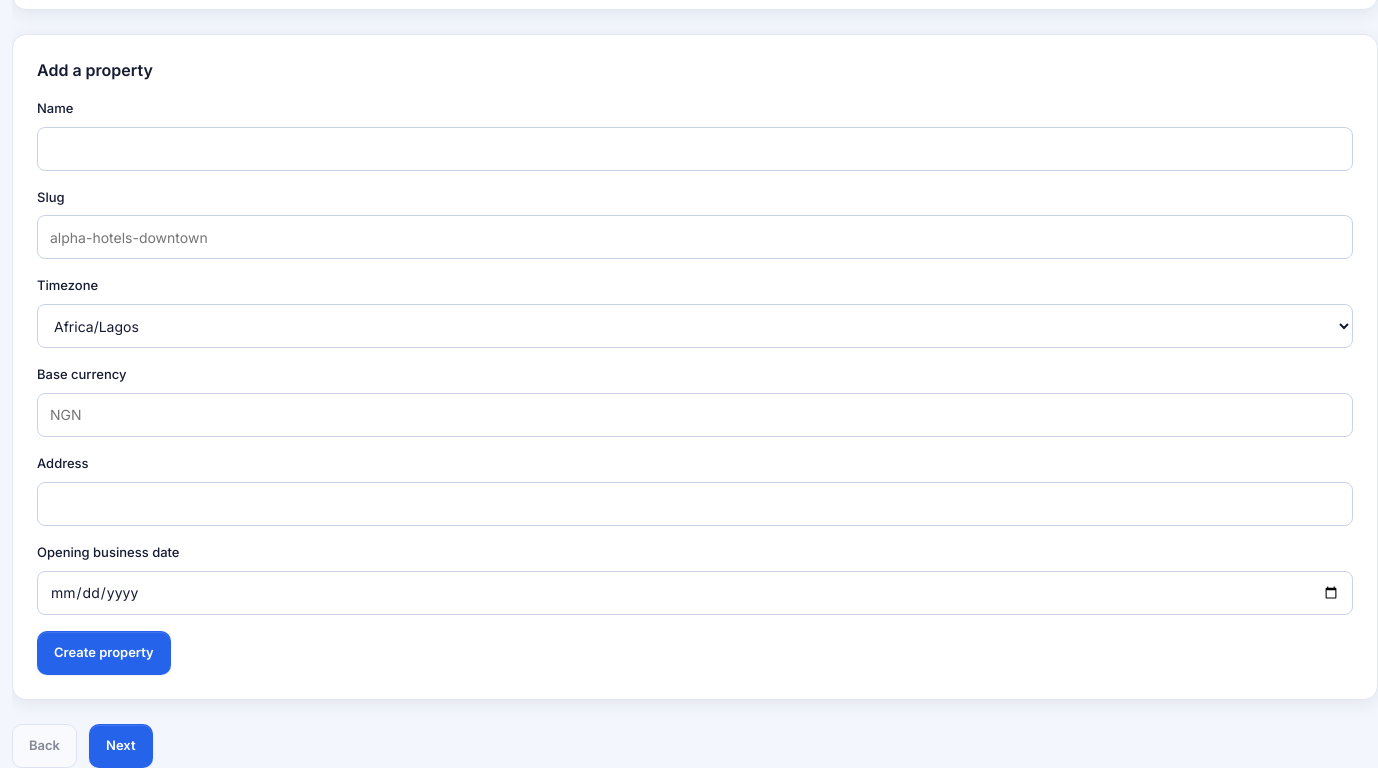
Scenario: <SetupWizard> › disables Back on the first step and moves forward on Next
(page scrolled)
Expected: the button "Back" is disabled, left=12, top=724, right=77, bottom=767
Click the button "Next".
click(121, 746)  # box left=89, top=724, right=152, bottom=767
(page scrolled)
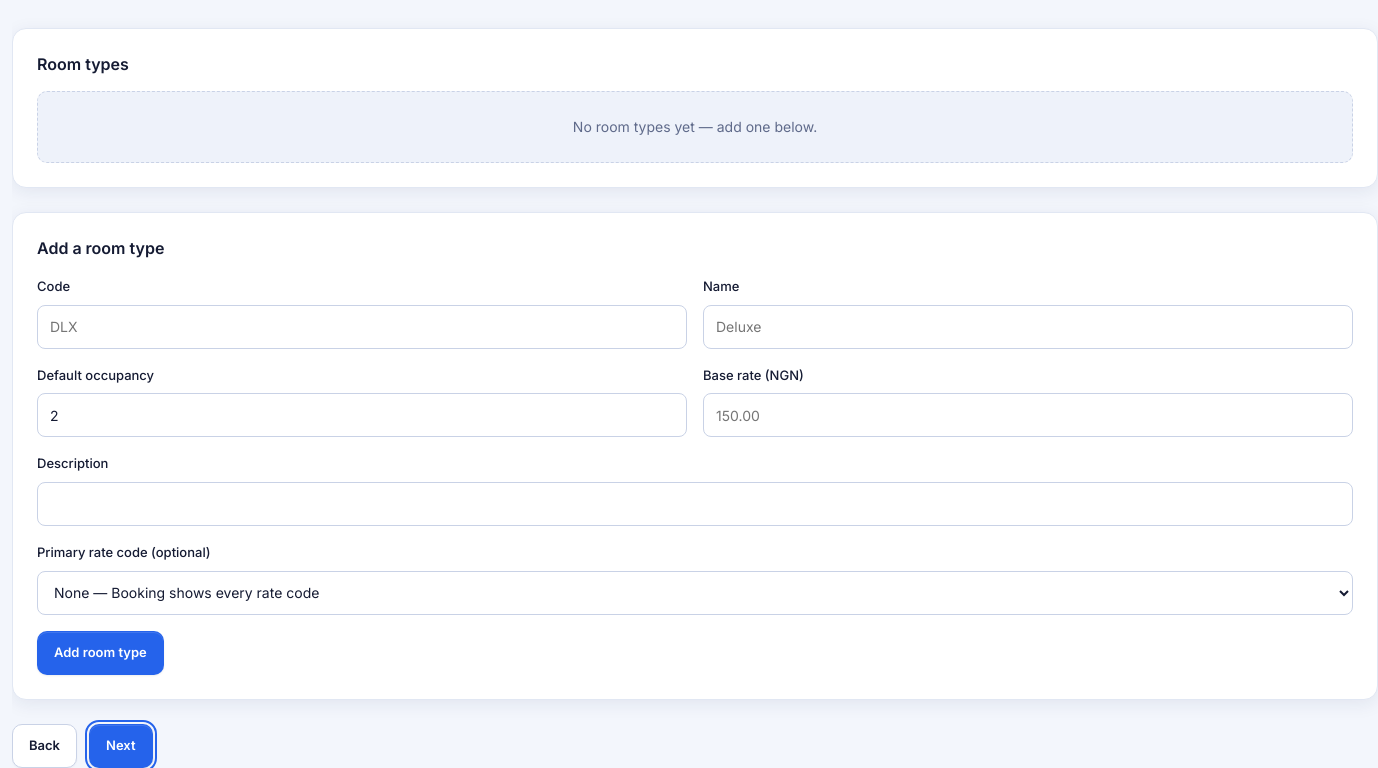
Expected: the button "Add room type" is shown, left=37, top=631, right=164, bottom=675
